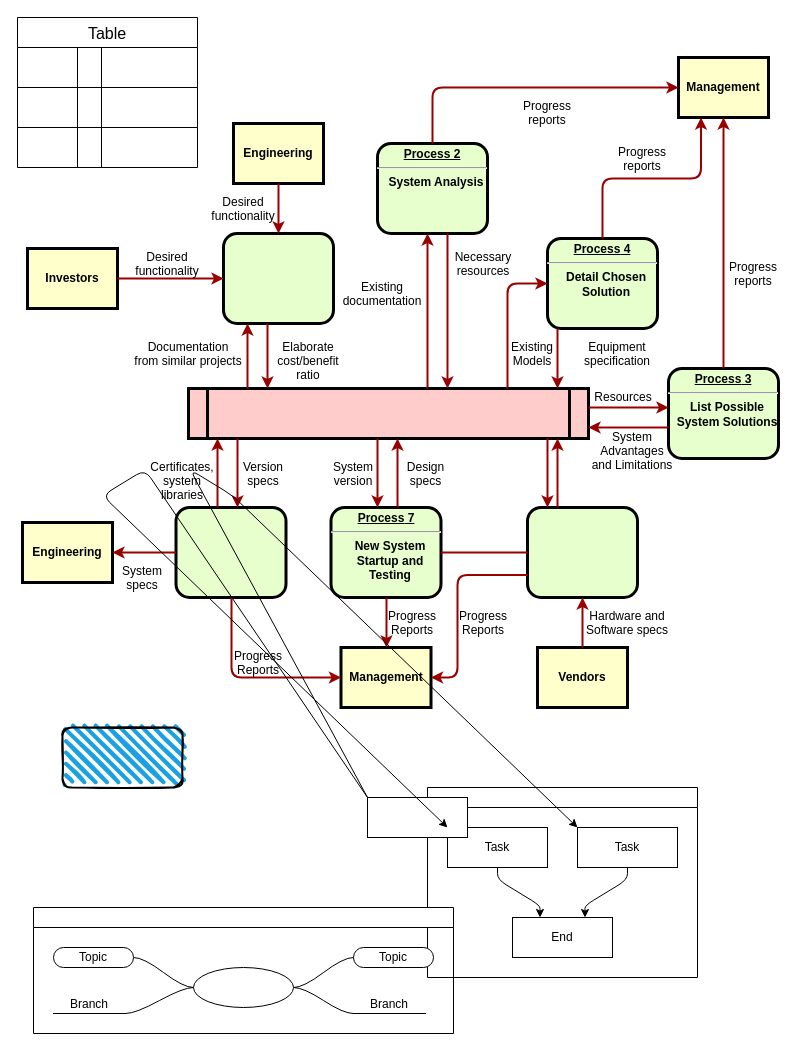
Some shapes in this 797 by 1051 pixel diagram are drawn without their labels. The shapes that lost their labels are listed below. From the top down, each one's box as (x1, y1, x2, y2) in pixels, then its label:
(222, 232, 334, 324): Process 1 System Study Preparation
(186, 386, 590, 440): ON-DEMAND SYSTEM DEVELOPMENT
(174, 506, 287, 598): Process 6 New System Construction
(526, 506, 638, 598): Process 5 New System Design
(366, 796, 468, 838): Start
(426, 786, 698, 978): Vertical Flow Layout
(32, 906, 454, 1034): Mindmap
(192, 966, 294, 1008): Central Idea
